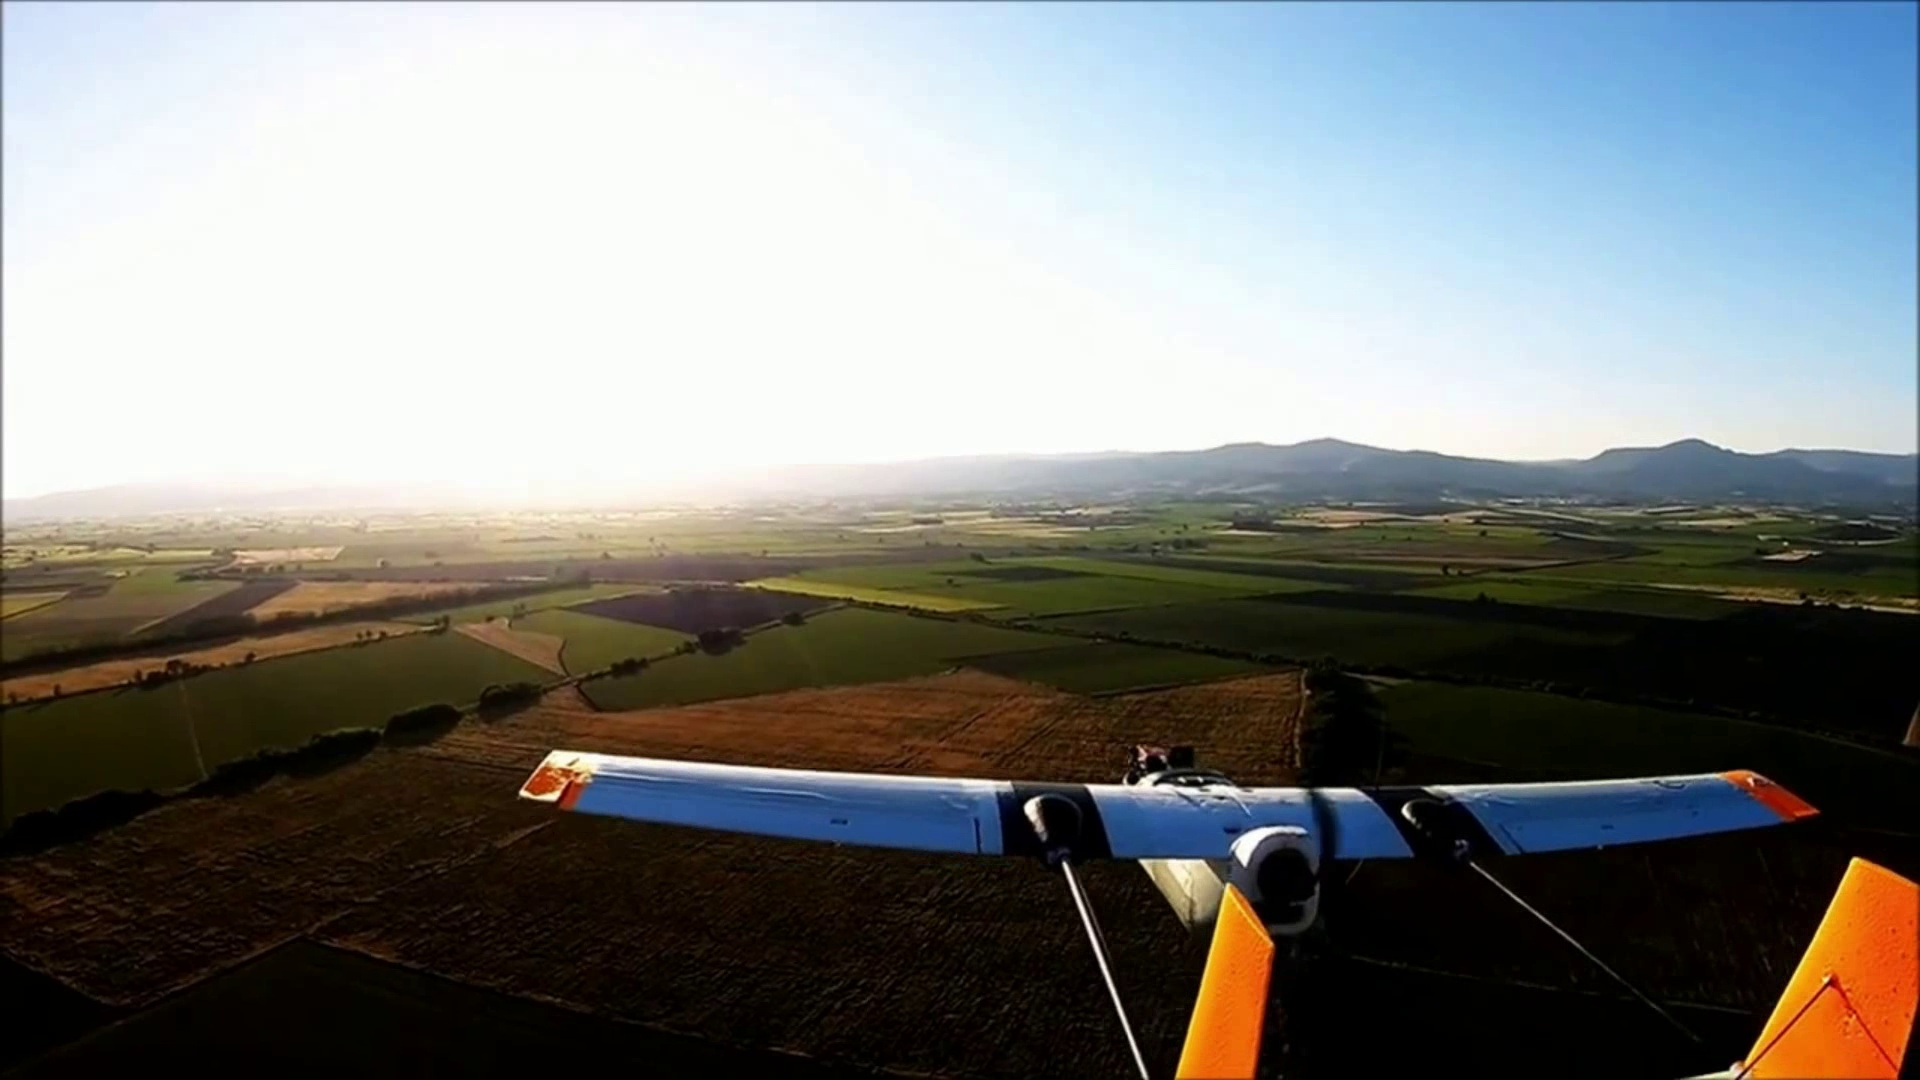airplane: (481, 722, 1916, 1068)
